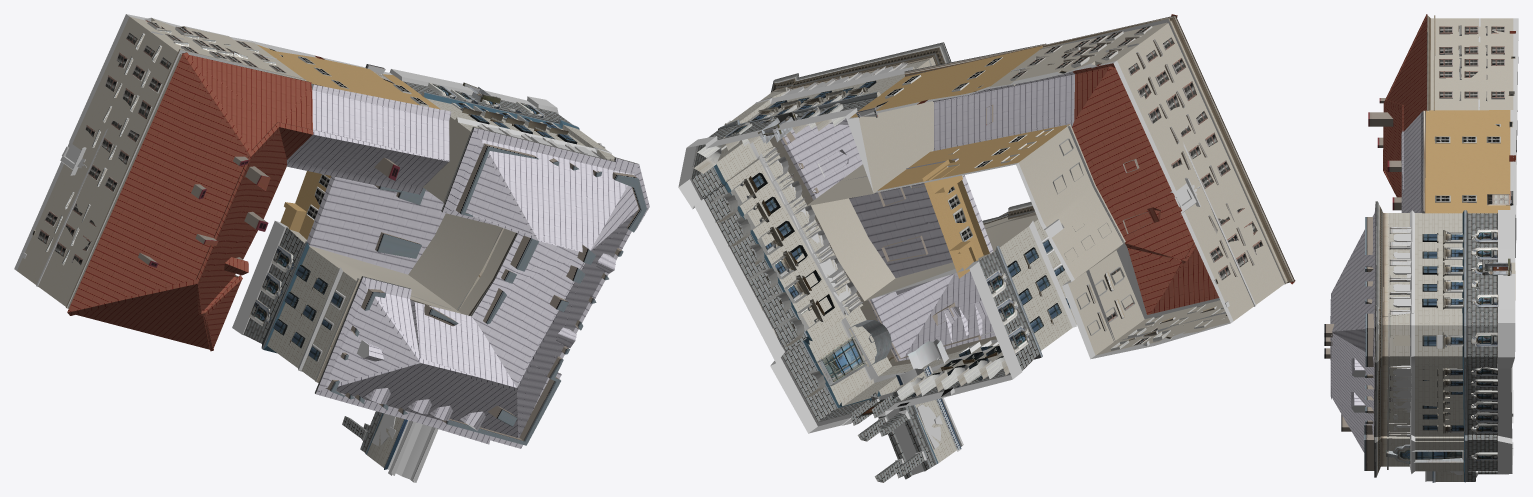
The model's file is Lai_46_obj-origo.obj.
The picture shows the model from 3 angles, left to right: view 1: azimuth 30°, elevation 25°; view 2: azimuth 150°, elevation 25°; view 3: azimuth 270°, elevation 25°; orthographic projection. The views are drawn at different scales.
Visible parts, largest first — view 1: Lai_46; view 2: Lai_46; view 3: Lai_46.
Boxes of the visible parts, <box> form: Lai_46: <box>14,14,649,482</box>; Lai_46: <box>678,14,1295,482</box>; Lai_46: <box>1324,14,1518,482</box>.
Bounding box in the file's own units: 71.06 × 60 × 27.94.
